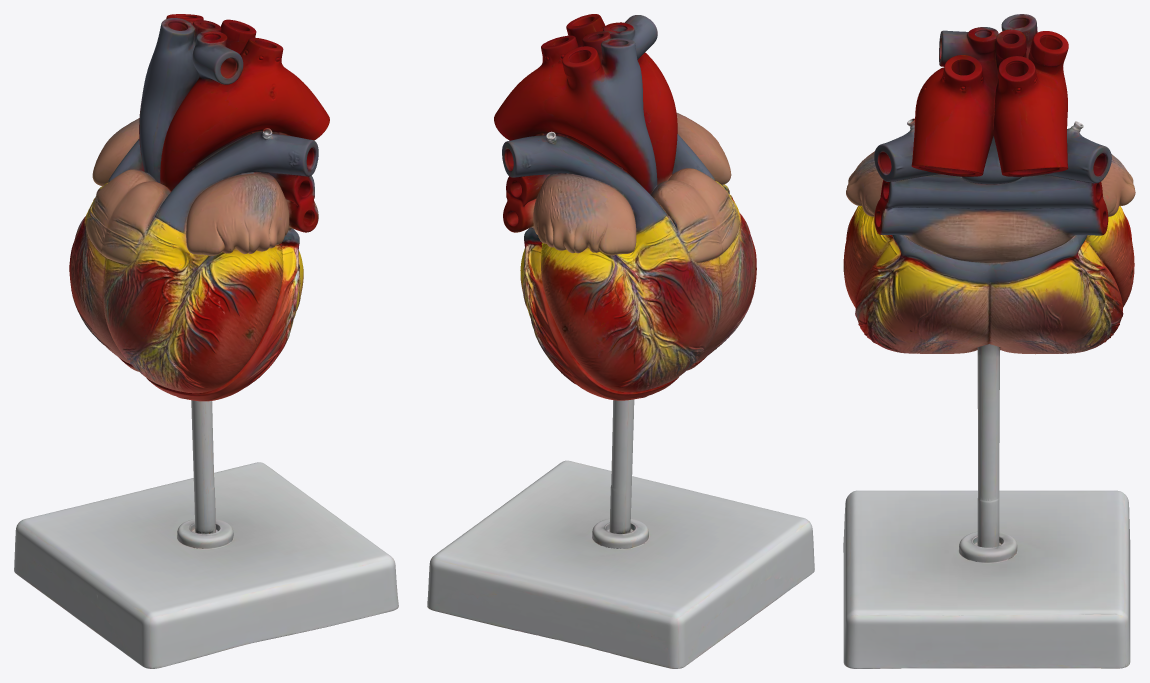
File: heart.glb
The picture shows the model from 3 angles, left to right: view 1: azimuth 30°, elevation 25°; view 2: azimuth 150°, elevation 25°; view 3: azimuth 270°, elevation 25°; orthographic projection. The views are drawn at different scales.
Visible parts, largest first — view 1: node_0; view 2: node_0; view 3: node_0.
Boxes of the visible parts, x1,y1,x2,y2 form: node_0: [14, 14, 398, 668]; node_0: [427, 14, 814, 668]; node_0: [843, 14, 1135, 668].
Size of the model in its own units: 0.483 by 1.01 by 0.4618.
1 material, 1 textured.
